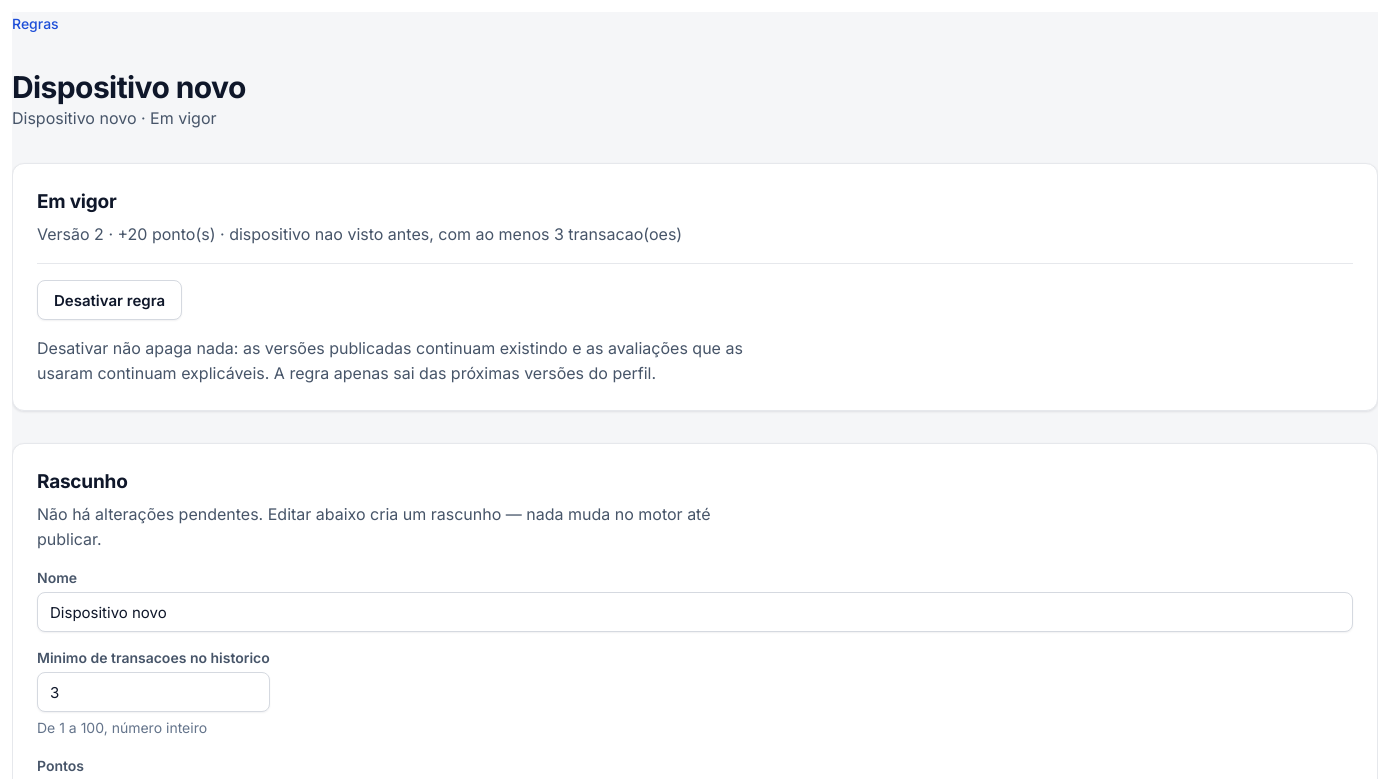
Scenario: detalhe da regra › avisa quando a ação é recusada, em vez de engolir o erro
Expected: the heading "Dispositivo novo" is shown, [12,69,246,105]
Click the button "Desativar regra". click: (110, 300)
box: [37,280,182,320]
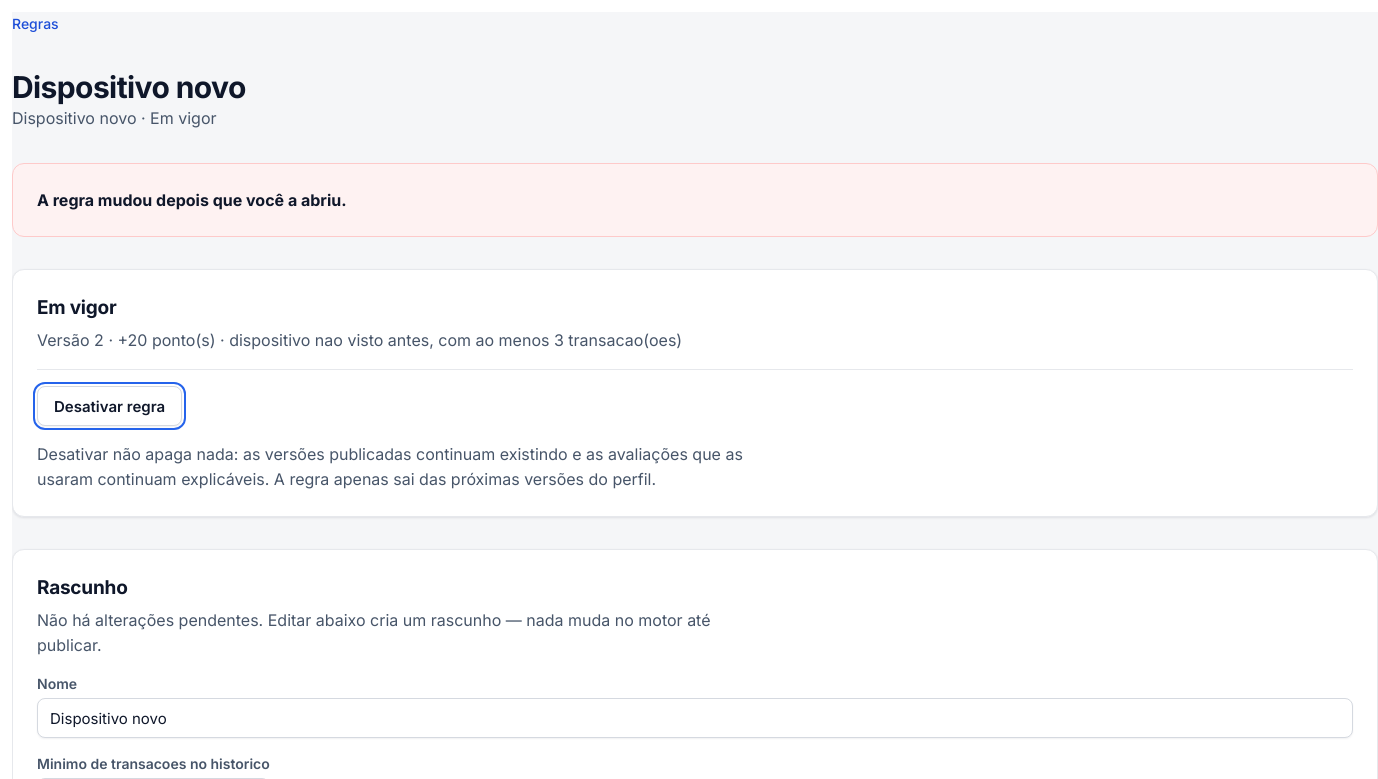
Expected: the message reads "A regra mudou depois que você a abriu.", [37,190,347,210]
